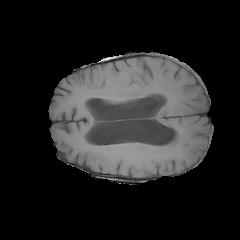glioma: (80, 130, 181, 162)
